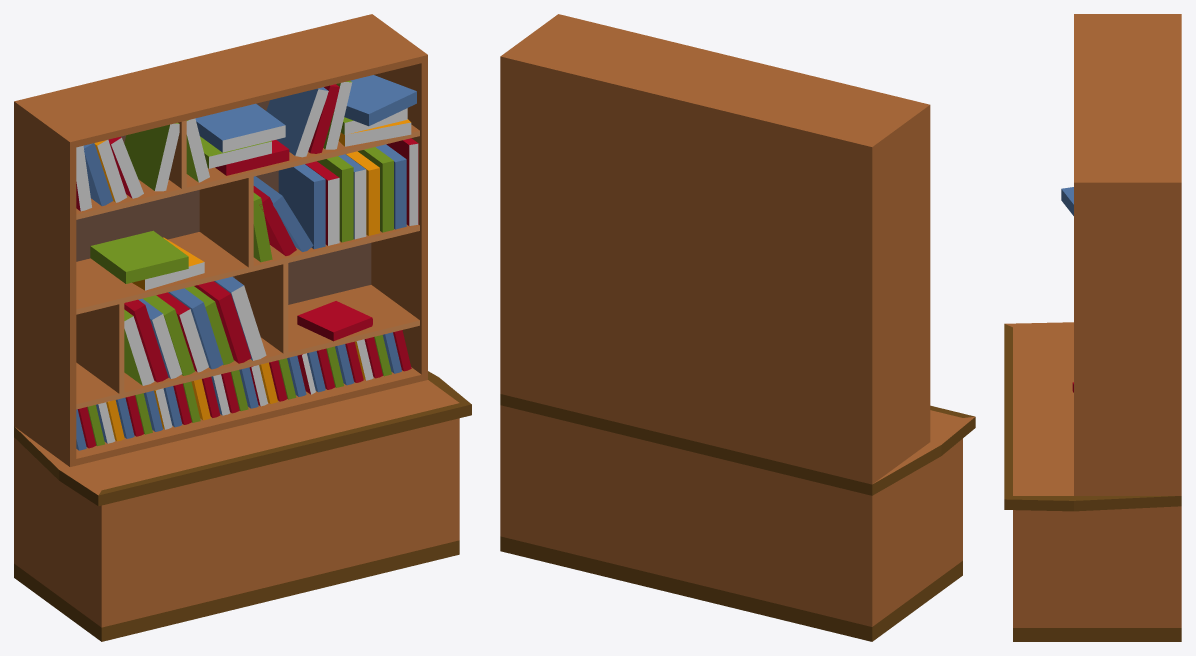
File: Book Shelf.fbx
The picture shows the model from 3 angles, left to right: view 1: azimuth 30°, elevation 25°; view 2: azimuth 150°, elevation 25°; view 3: azimuth 270°, elevation 25°; orthographic projection. The views are drawn at different scales.
Visible parts, largest first — view 1: Book Shelf.002; view 2: Book Shelf.002; view 3: Book Shelf.002.
Boxes of the visible parts, <box> form: Book Shelf.002: <box>14,14,471,641</box>; Book Shelf.002: <box>500,14,975,641</box>; Book Shelf.002: <box>1004,14,1181,641</box>.
Size of the model in its own units: 203 by 243 by 85.04.
